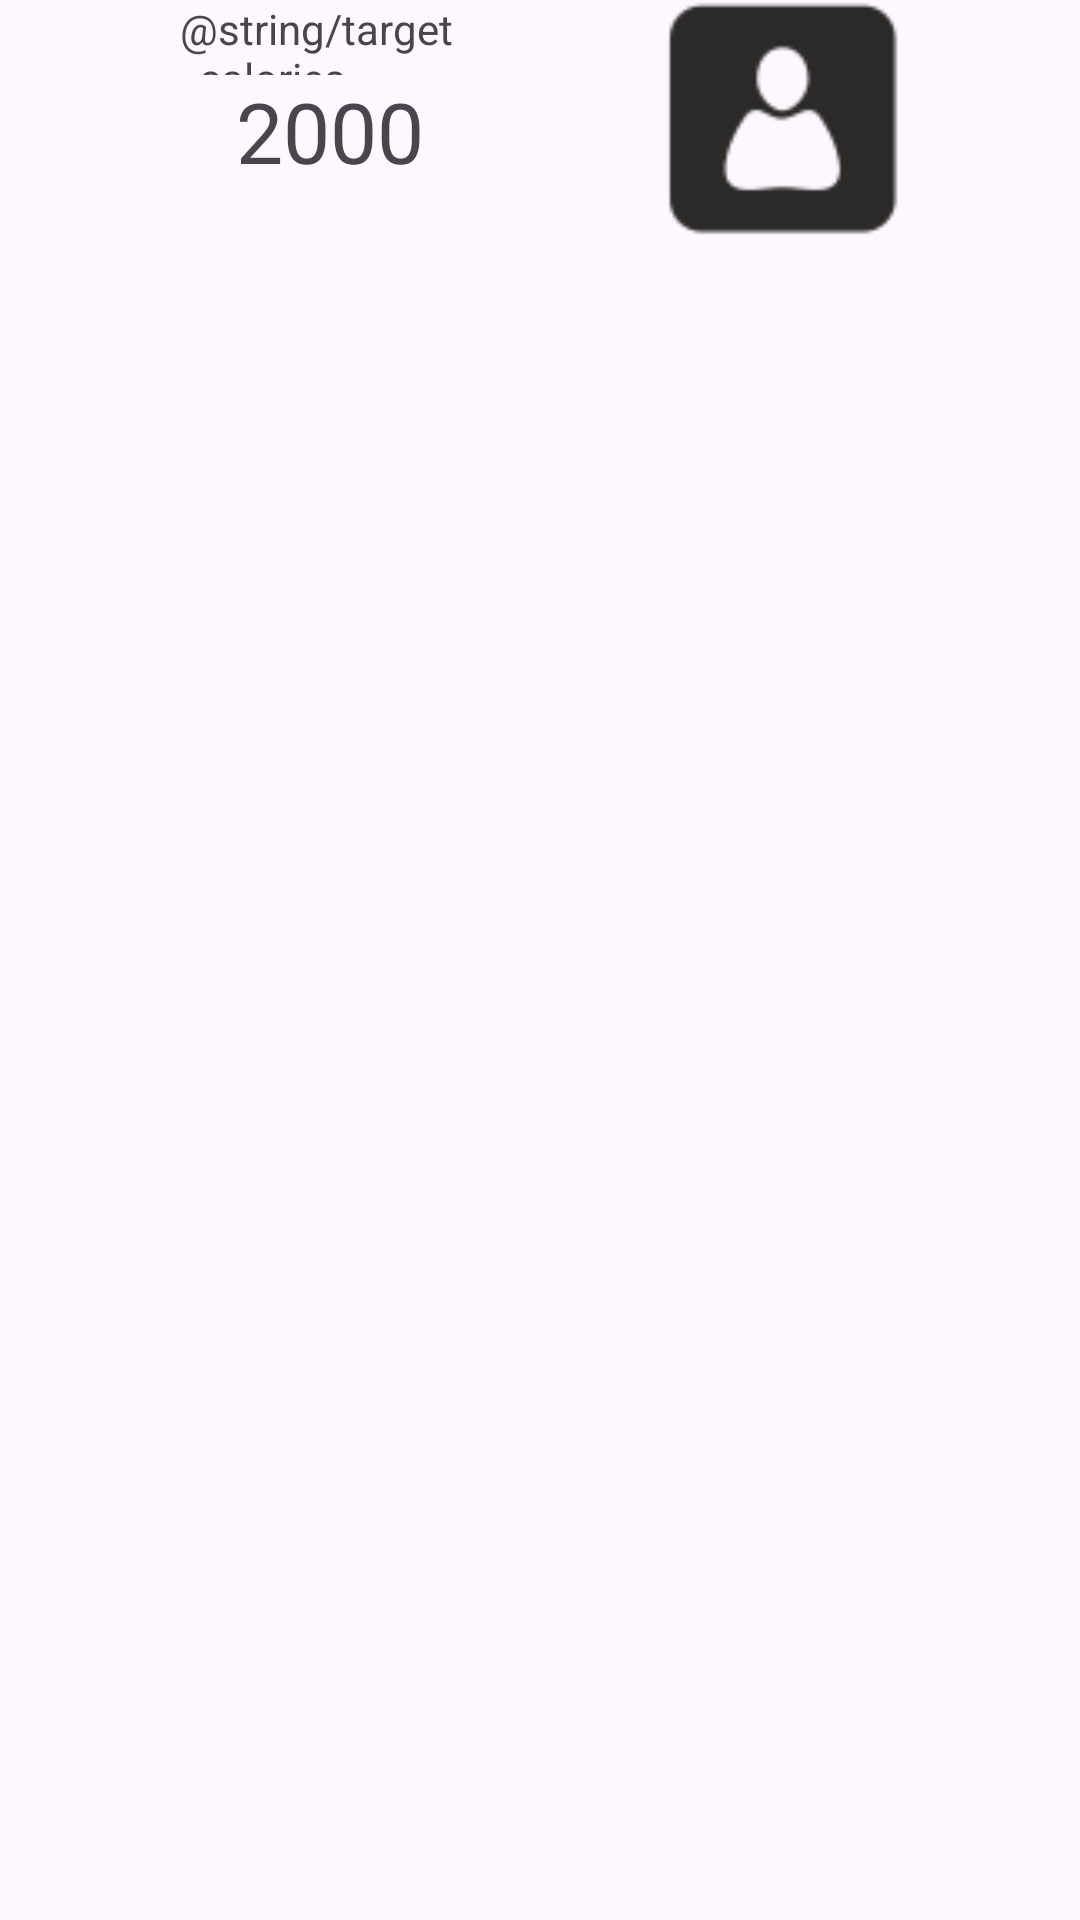

Screen size 1080x1920. Icon name, then its center in pixels as (x,y):
anonymous profile: (783,118)
